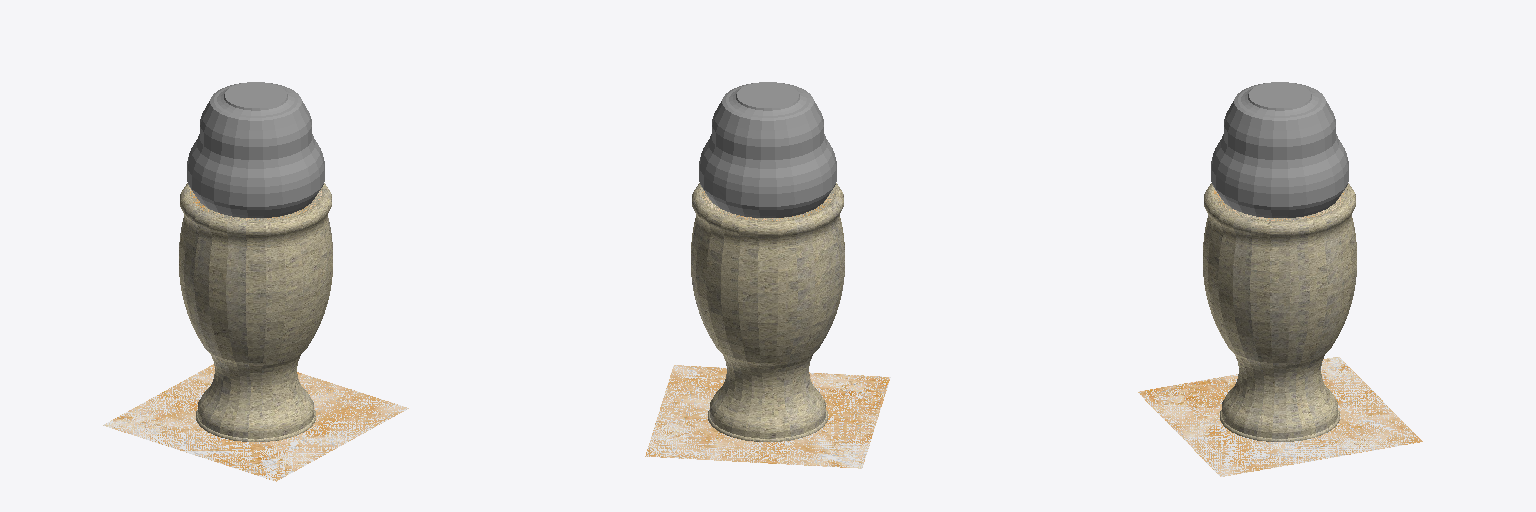
3 renders of one model, left to right at view 1: azimuth 30°, elevation 25°; view 2: azimuth 150°, elevation 25°; view 3: azimuth 270°, elevation 25°, orthographic.
Parts seen in each view (by area): view 1: mesh1_mesh1-geometry; view 2: mesh1_mesh1-geometry; view 3: mesh1_mesh1-geometry.
Boxes of the visible parts, <box> form: mesh1_mesh1-geometry: <box>103,82,408,481</box>; mesh1_mesh1-geometry: <box>645,82,890,468</box>; mesh1_mesh1-geometry: <box>1138,82,1422,476</box>.
Size of the model in its own units: 0.5316 by 0.6594 by 0.5316.
5 materials, 3 textured.